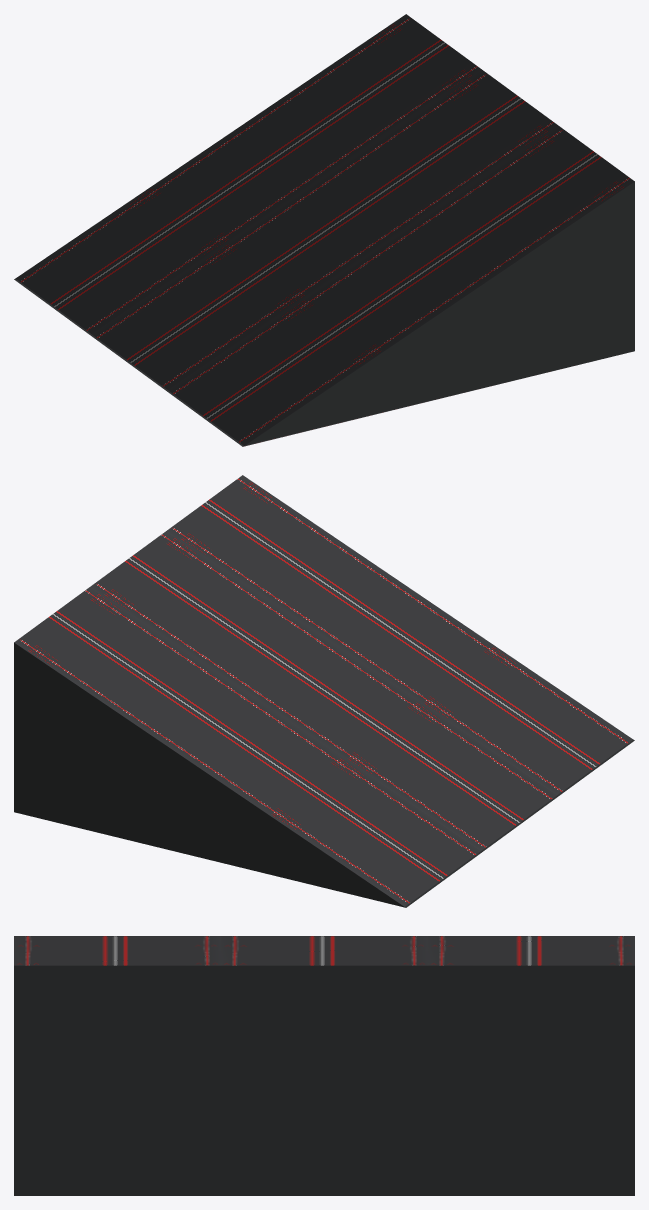
File: rampa_triangulo.fbx
3 views of the same model, one above another, from view 1: azimuth 30°, elevation 25°; view 2: azimuth 150°, elevation 25°; view 3: azimuth 270°, elevation 25° (orthographic). The views are drawn at different scales.
Parts seen in each view (by area): view 1: Cube; view 2: Cube; view 3: Cube.
Boxes of the visible parts, bbox=[...] form: Cube: bbox=[14, 14, 634, 446]; Cube: bbox=[14, 475, 634, 907]; Cube: bbox=[14, 936, 634, 1195].
Bounding box in the file's own units: 34.3 × 14.18 × 34.65.
2 materials, 1 textured.
